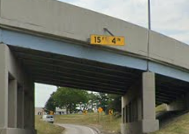1: (92, 35, 97, 43)
4: (110, 36, 116, 45)
5: (96, 35, 101, 44)
overheadsign: (89, 33, 125, 48)
